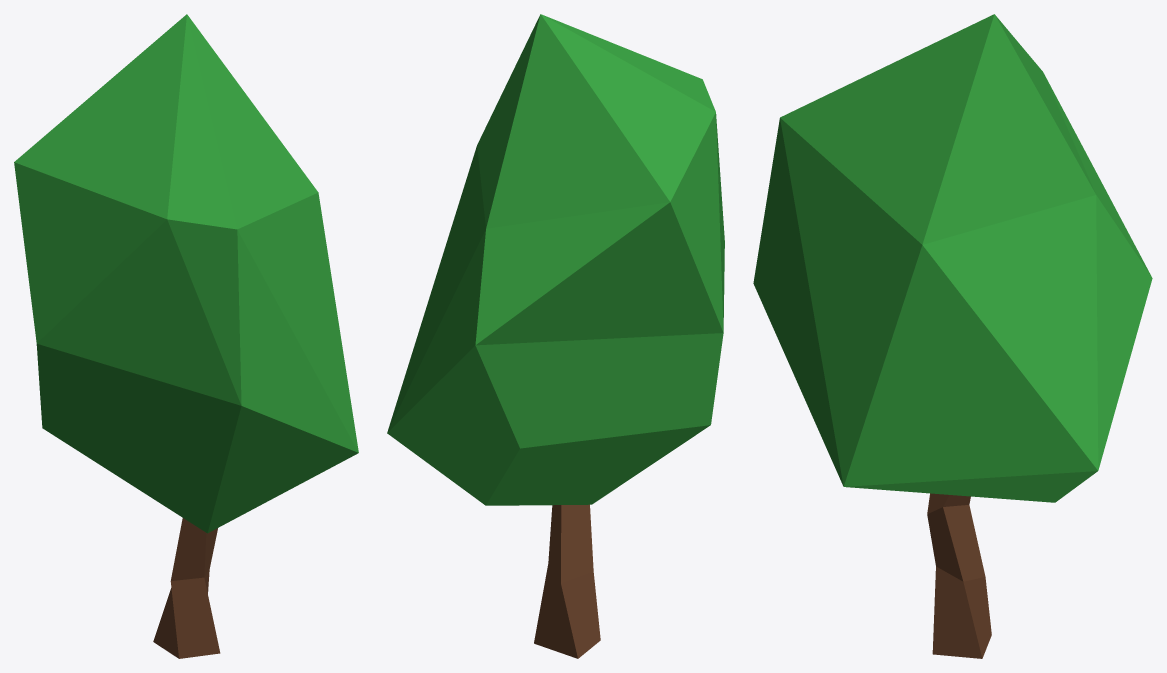
Rendered from Tree_51_Green.fbx.
3 renders of one model, left to right at view 1: azimuth 30°, elevation 25°; view 2: azimuth 150°, elevation 25°; view 3: azimuth 270°, elevation 25°, orthographic. The views are drawn at different scales.
Visible parts, largest first — view 1: Tree_51_Green_Part_2, Tree_51_Green_Part_1; view 2: Tree_51_Green_Part_2, Tree_51_Green_Part_1; view 3: Tree_51_Green_Part_2, Tree_51_Green_Part_1.
Part boxes in pixels (left/top/right/bottom): Tree_51_Green_Part_2: left=14, top=14, right=358, bottom=533; Tree_51_Green_Part_1: left=153, top=518, right=220, bottom=658; Tree_51_Green_Part_2: left=387, top=14, right=724, bottom=505; Tree_51_Green_Part_1: left=534, top=504, right=600, bottom=658; Tree_51_Green_Part_2: left=753, top=14, right=1152, bottom=502; Tree_51_Green_Part_1: left=927, top=493, right=991, bottom=658.
Bounding box in the file's own units: 257 × 577 × 327.
